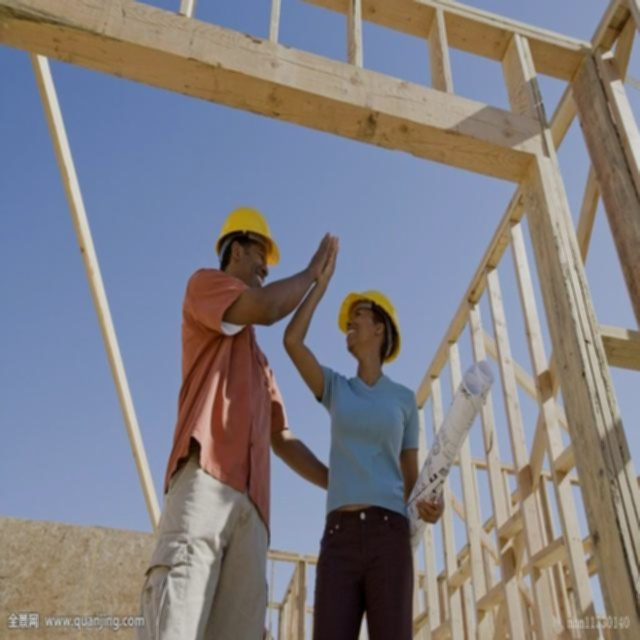Sin_Chaleco: (332, 367, 419, 525)
